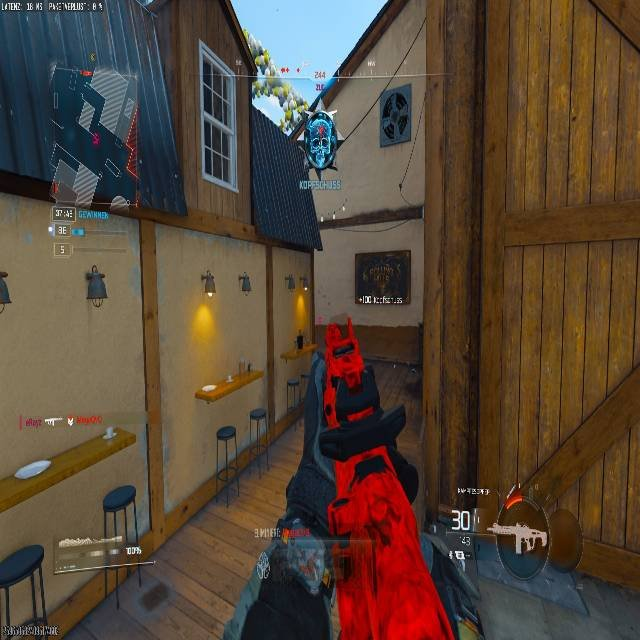head: (324, 319, 363, 388)
